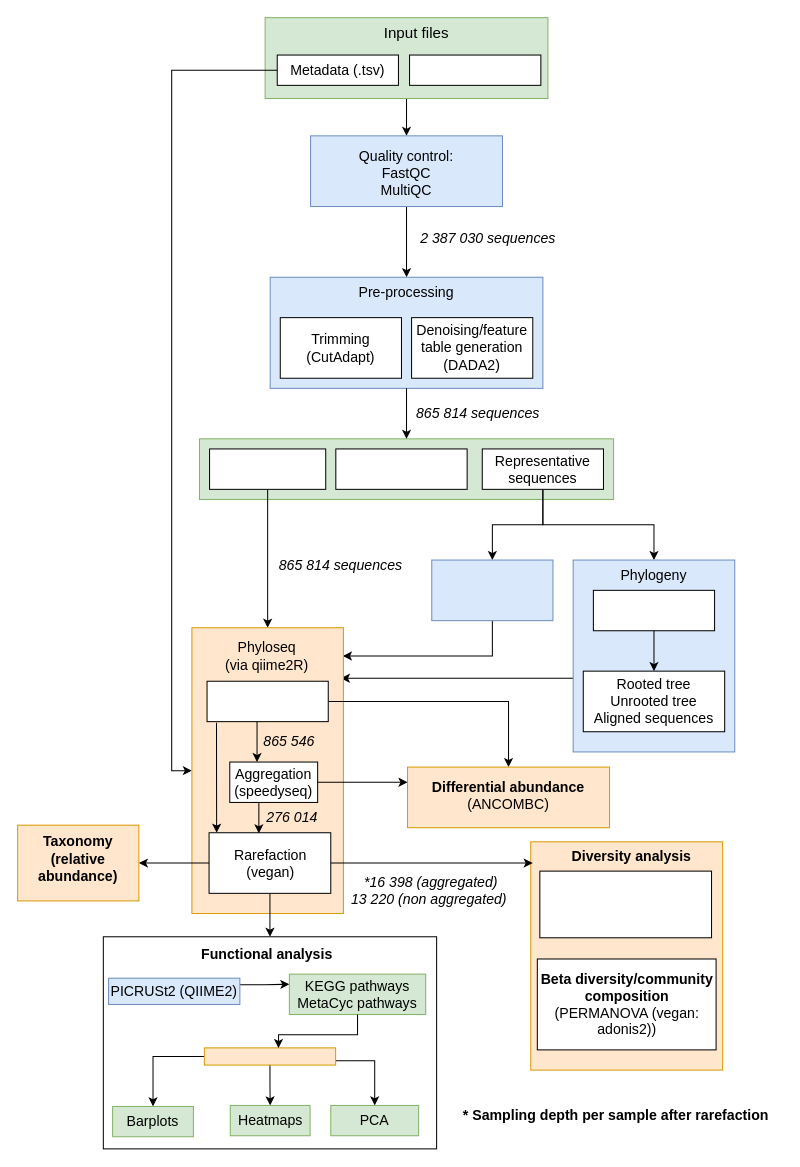
This 800x1167 diagram has some shape labels left out. Here are the shapes that lost their labels. From the top down, the centre of each, then its label:
At point (475, 69): "FASTQ (36 X 2 PE)".
At point (267, 468): "Feature table 28 079 features".
At point (401, 468): "Denoising statistics".
At point (492, 590): "Taxonomic classification (GreenGenes2)".
At point (653, 610): "MAFFT alignment (fasttree)".
At point (267, 701): "Agglomeration (tax_glom)".
At point (625, 904): "Alpha diversity (paired Wilcoxon, Kruskal-Wallis)".
At point (269, 1056): "ggpicrust2 (R)".
